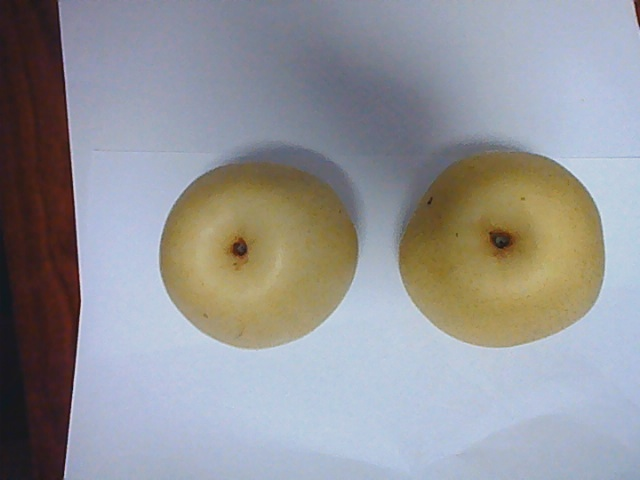pear: (401, 148, 610, 348), (156, 161, 362, 350)
